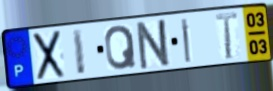I: (71, 26, 88, 77), (179, 16, 192, 64)
N: (135, 16, 173, 72)
Q: (104, 24, 139, 72)
T: (214, 10, 240, 62)
X: (32, 28, 66, 83)
